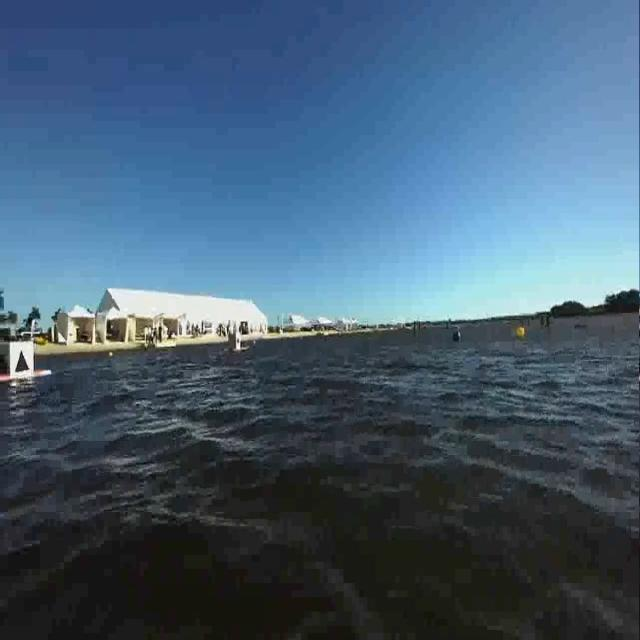black-buoy: (452, 331, 461, 345)
yellow-buoy: (515, 327, 525, 341)
